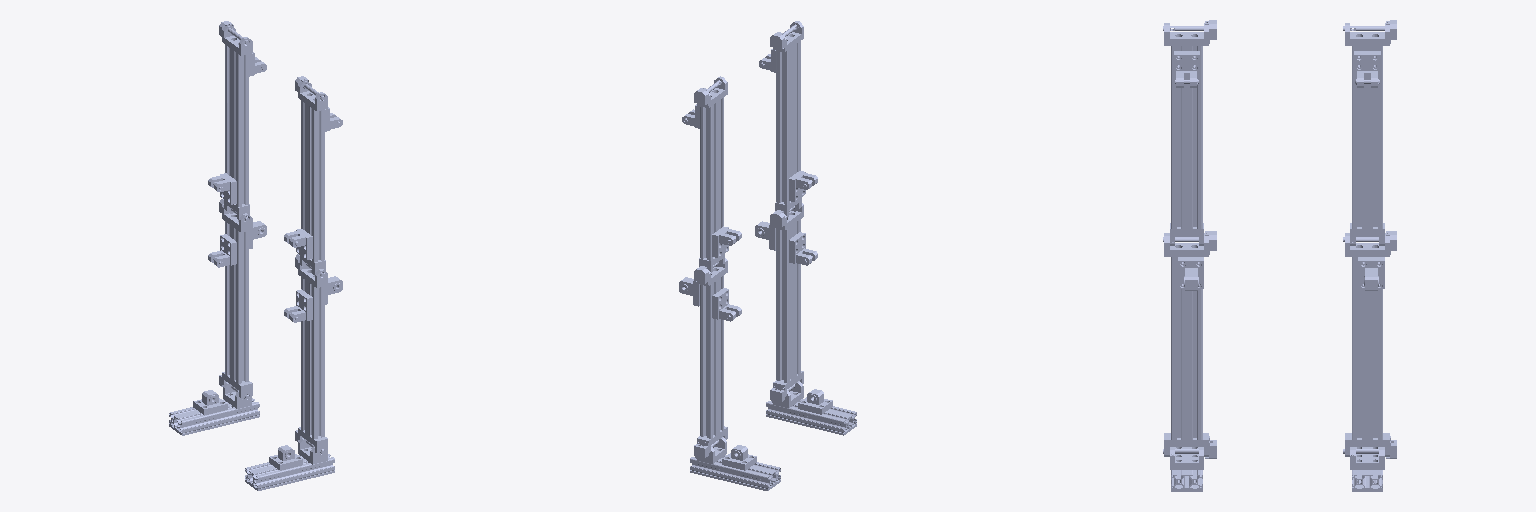
robot.urdf — urdf_trajectory:
<?xml version="1.0" encoding="utf-8"?>
<!-- This URDF was automatically created by SolidWorks to URDF Exporter! Originally created by [author] ([email redacted]) 
     Commit Version: 1.5.1-0-g916b5db  Build Version: 1.5.7152.31018
     For more information, please see http://wiki.ros.org/sw_urdf_exporter -->
<robot name="urdf_trajectory">



  <!--                                             Gazebo                                         -->
  <!-- ros_control plugin -->
  <!-- <gazebo>
    <plugin filename="libgazebo_ros_control.so" name="gazebo_ros_control">
      <robotNamespace>/</robotNamespace>
    </plugin>
  </gazebo> -->
  <!-- <gazebo>
    <plugin filename="libgazebo_ros_p3d.so" name="ground_truth">
      <frameName>map</frameName>
      <bodyName>base_link</bodyName>
      <topicName>/leg_chuanv3/odom</topicName>
      <updateRate>100.0</updateRate>
    </plugin>
  </gazebo> -->

  <!-- ros_control plugin -->
  <gazebo>
    <plugin name="gazebo_ros_control" filename="libgazebo_ros_control.so">
      <robotNamespace>/urdf_trajectory</robotNamespace>
      <robotSimType>gazebo_ros_control/DefaultRobotHWSim</robotSimType>
      <legacyModeNS>true</legacyModeNS>
    </plugin>
  </gazebo>
  <!-- World -->
  <!--<gazebo reference="world"></gazebo>-->
  <!-- Base -->
  <gazebo reference="world"/>
  <!-- IMU -->
  <!-- <gazebo reference="imu_link"/> -->
  <!-- Body-->
  <gazebo reference="base_link">
    <mu1>0.2</mu1>
    <mu2>0.2</mu2>
    <!-- <material>Gazebo/Red</material> -->
    <selfCollide>false</selfCollide>
  </gazebo>



  <gazebo reference="llink1">
    <mu1>0.2</mu1>
    <mu2>0.2</mu2>
    <!-- <material>Gazebo/Red</material> -->
    <selfCollide>true</selfCollide>
  </gazebo>

  <gazebo reference="llink2">
    <kp>100000.0</kp>
    <kd>100.0</kd>
    <mu1>1.5</mu1>
    <mu2>1.5</mu2>
    <fdir1>1 0 0</fdir1>
    <maxVel>1.0</maxVel>
    <minDepth>0.001</minDepth>
    <selfCollide>true</selfCollide>
  </gazebo>


  <gazebo reference="llink3">
    <mu1>0.2</mu1>
    <mu2>0.2</mu2>
    <!-- <material>Gazebo/Grey</material> -->
    <selfCollide>true</selfCollide>
  </gazebo>


  <gazebo reference="rlink1">
    <mu1>0.2</mu1>
    <mu2>0.2</mu2>
    <!-- <material>Gazebo/Grey</material> -->
    <selfCollide>true</selfCollide>
  </gazebo>


  <gazebo reference="rlink2">
    <kp>100000.0</kp>
    <kd>100.0</kd>
    <mu1>1.5</mu1>
    <mu2>1.5</mu2>
    <fdir1>1 0 0</fdir1>
    <maxVel>1.0</maxVel>
    <minDepth>0.0001</minDepth>
    <selfCollide>true</selfCollide>
  </gazebo>

  <gazebo reference="rlink3">
    <mu1>0.2</mu1>
    <mu2>0.2</mu2>
    <!-- <material>Gazebo/Grey</material> -->
    <selfCollide>true</selfCollide>
  </gazebo>







  <link name="world"></link>

  <joint name="joint_origin" type="fixed">
    <parent link="world"/>
    <child link="base_link"/>
    <origin xyz="0.0 0.0 0" rpy="0.0 0.0 0"/>
  </joint>



  <link name="base_link">
    <inertial>
      <origin xyz="-0.0014321 0.00041851 0.040306" rpy="0 0 0" />
      <mass value="2.4018" />
      <inertia ixx="0.009591" ixy="1.9337E-07" ixz="-1.2072E-07" iyy="0.0070769" iyz="-2.7325E-07" izz="0.015485" />
    </inertial>
    <visual>
      <origin xyz="0 0 0" rpy="0 0 0" />
      <geometry>
        <mesh filename="package://leg_description/meshes/base_link.STL" scale="1 1 1" />
      </geometry>
      <material name="">
        <color rgba="0.79216 0.81961 0.93333 1" />
      </material>
    </visual>
    <collision>
      <origin xyz="0 0 0" rpy="0 0 0" />
      <geometry>
        <mesh filename="package://leg_description/meshes/base_link.STL" scale="1 1 1" />
      </geometry>
    </collision>
  </link>


  <link name="llink1">
    <inertial>
      <origin xyz="0.21548 -0.0030993 0.0013257" rpy="0 0 0" />
      <mass value="0.43137" />
      <inertia ixx="0.00020436" ixy="-9.8E-06" ixz="1.5473E-07" iyy="0.0027266" iyz="5.4625E-08" izz="0.0026126" />
    </inertial>
    <visual>
      <origin xyz="0 0 0" rpy="0 0 0" />
      <geometry>
        <mesh filename="package://leg_description/meshes/llink1.STL" scale="1 1 1" />
      </geometry>
      <material name="">
        <color rgba="0.79216 0.81961 0.93333 1" />
      </material>
    </visual>
    <collision>
      <origin xyz="0 0 0" rpy="0 0 0" />
      <geometry>
        <mesh filename="package://leg_description/meshes/llink1.STL" scale="1 1 1" />
      </geometry>
    </collision>
  </link>


  <joint name="ljoint1" type="revolute">
    <origin xyz="-0.0436 -0.17124 -0.06" rpy="1.5708 1.5708 0" />
    <parent link="base_link" />
    <child link="llink1" />
    <axis xyz="0 0 1" />
    <limit lower="-3.142" upper="3.142" effort="100" velocity="3" />
    <dynamics damping="0.1" friction="0.0"/>
  </joint>
  <transmission name="tran1">
    <type>transmission_interface/SimpleTransmission</type>
    <joint name="ljoint1">
      <hardwareInterface>hardware_interface/PositionJointInterface</hardwareInterface>
    </joint>
    <actuator name="motor1">
      <hardwareInterface>hardware_interface/PositionJointInterface</hardwareInterface>
      <mechanicalReduction>1</mechanicalReduction>
    </actuator>
  </transmission>



  <link name="llink2">
    <inertial>
      <origin xyz="0.17796 0.0015786 -0.047904" rpy="0 0 0" />
      <mass value="0.45541" />
      <inertia ixx="0.00023283" ixy="4.9149E-06" ixz="7.2132E-18" iyy="0.0027437" iyz="1.4004E-17" izz="0.002625" />
    </inertial>
    <visual>
      <origin xyz="0 0 0" rpy="0 0 0" />
      <geometry>
        <mesh filename="package://leg_description/meshes/llink2.STL" scale="1 1 1" />
      </geometry>
      <material name="">
        <color rgba="0.79216 0.81961 0.93333 1" />
      </material>
    </visual>
    <collision>
      <origin xyz="0 0 0" rpy="0 0 0" />
      <geometry>
        <mesh filename="package://leg_description/meshes/llink2.STL" scale="1 1 1" />
      </geometry>
    </collision>
  </link>


  <joint name="ljoint2" type="revolute">
    <origin xyz="0.438 -0.0031004 0.047592" rpy="0 0 0" />
    <parent link="llink1" />
    <child link="llink2" />
    <axis xyz="0 0 1" />
    <limit lower="-3.142" upper="3.142" effort="100" velocity="3" />
    <dynamics damping="0.1" friction="0.0"/>
  </joint>
  <transmission name="ljoint2_tran">
    <type>transmission_interface/SimpleTransmission</type>
    <joint name="ljoint2">
      <hardwareInterface>hardware_interface/PositionJointInterface</hardwareInterface>
    </joint>
    <actuator name="ljoint2_motor">
      <hardwareInterface>hardware_interface/PositionJointInterface</hardwareInterface>
      <mechanicalReduction>1</mechanicalReduction>
    </actuator>
  </transmission>


  <link name="llink3">
    <inertial>
      <origin xyz="0.036675 -0.049331 -0.045802" rpy="0 0 0" />
      <mass value="0.29119" />
      <inertia ixx="0.00068435" ixy="-6.0358E-08" ixz="-1.3663E-07" iyy="0.00011606" iyz="9.6683E-08" izz="0.00061049" />
    </inertial>
    <visual>
      <origin xyz="0 0 0" rpy="0 0 0" />
      <geometry>
        <mesh filename="package://leg_description/meshes/llink3.STL" />
      </geometry>
      <material name="">
        <color rgba="0.79216 0.81961 0.93333 1" />
      </material>
    </visual>
    <collision>
      <origin xyz="0 0 0" rpy="0 0 0" />
      <geometry>
        <mesh filename="package://leg_description/meshes/llink3.STL" />
      </geometry>
    </collision>
  </link>


  <joint name="ljoint3" type="revolute">
    <origin xyz="0.44 0 0" rpy="0 0 0" />
    <parent link="llink2" />
    <child link="llink3" />
    <axis xyz="0 0 1" />
    <limit lower="-3.142" upper="3.142" effort="100" velocity="3" />
    <dynamics damping="0.1" friction="0.0"/>
  </joint>
  <transmission name="ljoint3_tran">
    <type>transmission_interface/SimpleTransmission</type>
    <joint name="ljoint3">
      <hardwareInterface>hardware_interface/PositionJointInterface</hardwareInterface>
    </joint>
    <actuator name="ljoint3_motor">
      <hardwareInterface>hardware_interface/PositionJointInterface</hardwareInterface>
      <mechanicalReduction>1</mechanicalReduction>
    </actuator>
  </transmission>

  <link name="left_qd"/> 
  <joint name="joint_ltool0" type="fixed">
    <origin xyz="0 0 0" rpy="0 0 0" />
    <parent link="llink3" />
    <child link="left_qd">
    </child>
  </joint>
  
  

  <link name="rlink1">
    <inertial>
      <origin xyz="0.21548 -0.0030993 0.0013257" rpy="0 0 0" />
      <mass value="0.43137" />
      <inertia ixx="0.00020436" ixy="-9.8E-06" ixz="1.5473E-07" iyy="0.0027266" iyz="5.4625E-08" izz="0.0026126" />
    </inertial>
    <visual>
      <origin xyz="0 0 0" rpy="0 0 0" />
      <geometry>
        <mesh filename="package://leg_description/meshes/rlink1.STL" scale="1 1 1" />
      </geometry>
      <material name="">
        <color rgba="0.79216 0.81961 0.93333 1" />
      </material>
    </visual>
    <collision>
      <origin xyz="0 0 0" rpy="0 0 0" />
      <geometry>
        <mesh filename="package://leg_description/meshes/rlink1.STL" scale="1 1 1" />
      </geometry>
    </collision>
  </link>


  <joint name="rjoint1" type="revolute">
    <origin xyz="-0.0436 0.16876 -0.06" rpy="1.5708 1.5708 0" />
    <parent link="base_link" />
    <child link="rlink1" />
    <axis xyz="0 0 1" />
    <limit lower="-3.142" upper="3.142" effort="100" velocity="3" />
    <dynamics damping="0.1" friction="0.0"/>
  </joint>
  <transmission name="rjoint1_tran">
    <type>transmission_interface/SimpleTransmission</type>
    <joint name="rjoint1">
      <hardwareInterface>hardware_interface/PositionJointInterface</hardwareInterface>
    </joint>
    <actuator name="rjoint1_motor">
      <hardwareInterface>hardware_interface/PositionJointInterface</hardwareInterface>
      <mechanicalReduction>1</mechanicalReduction>
    </actuator>
  </transmission>

  <link name="rlink2">
    <inertial>
      <origin xyz="0.17796 0.0015786 -0.047904" rpy="0 0 0" />
      <mass value="0.45541" />
      <inertia ixx="0.00023283" ixy="4.9149E-06" ixz="5.9225E-18" iyy="0.0027437" iyz="1.486E-17" izz="0.002625" />
    </inertial>
    <visual>
      <origin xyz="0 0 0" rpy="0 0 0" />
      <geometry>
        <mesh filename="package://leg_description/meshes/rlink2.STL" scale="1 1 1" />
      </geometry>
      <material name="">
        <color rgba="0.79216 0.81961 0.93333 1" />
      </material>
    </visual>
    <collision>
      <origin xyz="0 0 0" rpy="0 0 0" />
      <geometry>
        <mesh filename="package://leg_description/meshes/rlink2.STL" scale="1 1 1" />
      </geometry>
    </collision>
  </link>

  <joint name="rjoint2" type="revolute">
    <origin xyz="0.438 -0.0031004 0.047592" rpy="0 0 0" />
    <parent link="rlink1" />
    <child link="rlink2" />
    <axis xyz="0 0 1" />
    <limit lower="-3.142" upper="3.142" effort="100" velocity="3" />
    <dynamics damping="0.1" friction="0.0"/>
  </joint>
  <transmission name="rjoint2_tran">
    <type>transmission_interface/SimpleTransmission</type>
    <joint name="rjoint2">
      <hardwareInterface>hardware_interface/PositionJointInterface</hardwareInterface>
    </joint>
    <actuator name="rjoint2_motor">
      <hardwareInterface>hardware_interface/PositionJointInterface</hardwareInterface>
      <mechanicalReduction>1</mechanicalReduction>
    </actuator>
  </transmission>


  <link name="rlink3">
    <inertial>
      <origin xyz="0.036675 -0.049331 -0.045802" rpy="0 0 0" />
      <mass value="0.29119" />
      <inertia ixx="0.00068435" ixy="-6.0358E-08" ixz="-1.3663E-07" iyy="0.00011606" iyz="9.6683E-08" izz="0.00061049" />
    </inertial>
    <visual>
      <origin xyz="0 0 0" rpy="0 0 0" />
      <geometry>
        <mesh filename="package://leg_description/meshes/rlink3.STL" scale="1 1 1" />
      </geometry>
      <material name="">
        <color rgba="0.79216 0.81961 0.93333 1" />
      </material>
    </visual>
    <collision>
      <origin xyz="0 0 0" rpy="0 0 0" />
      <geometry>
        <mesh filename="package://leg_description/meshes/rlink3.STL" scale="1 1 1" />
      </geometry>
    </collision>
  </link>


  <joint name="rjoint3" type="revolute">
    <origin xyz="0.44 0 0" rpy="0 0 0" />
    <parent link="rlink2" />
    <child link="rlink3" />
    <axis xyz="0 0 1" />
    <limit lower="-3.142" upper="3.142" effort="100" velocity="3" />
    <dynamics damping="0.1" friction="0.0"/>
  </joint>
  <transmission name="rjoint3_tran">
    <type>transmission_interface/SimpleTransmission</type>
    <joint name="rjoint3">
      <hardwareInterface>hardware_interface/PositionJointInterface</hardwareInterface>
    </joint>
    <actuator name="rjoint3_motor">
      <hardwareInterface>hardware_interface/PositionJointInterface</hardwareInterface>
      <mechanicalReduction>1</mechanicalReduction>
    </actuator>
  </transmission>

  <link name="right_qd"/>
  <joint name="joint_rtool0" type="fixed">
    <origin xyz="0 0 0" rpy="0 0 0" />
    <parent link="rlink3" />
    <child link="right_qd">
    </child>
  </joint>
  
</robot>

--- Render facts (derived) ---
3 views of the same robot in one strip: view 1: azimuth 30°, elevation 25°; view 2: azimuth 150°, elevation 25°; view 3: azimuth 270°, elevation 25° (orthographic).
Robot: urdf_trajectory — 10 links, 9 joints (6 revolute, 3 fixed); root link world; default pose: every joint at zero.
Links seen in each view (by area): view 1: rlink2, rlink1, llink1, llink2, llink3, rlink3; view 2: llink2, rlink2, llink1, rlink1, llink3, rlink3; view 3: llink2, llink1, rlink2, rlink1, rlink3, llink3.
Link boxes in pixels (<box>): rlink2: <box>208,199,266,400</box>; rlink1: <box>208,21,266,221</box>; llink1: <box>284,76,342,276</box>; llink2: <box>284,254,342,456</box>; llink3: <box>245,438,334,490</box>; rlink3: <box>169,382,259,435</box>; llink2: <box>755,203,817,403</box>; rlink2: <box>679,258,741,459</box>; llink1: <box>759,21,817,217</box>; rlink1: <box>682,76,741,272</box>; llink3: <box>766,381,856,435</box>; rlink3: <box>690,437,780,490</box>; llink2: <box>1163,231,1216,458</box>; llink1: <box>1163,20,1216,245</box>; rlink2: <box>1343,231,1396,458</box>; rlink1: <box>1343,20,1396,245</box>; rlink3: <box>1350,447,1384,491</box>; llink3: <box>1170,447,1203,491</box>.
Bounding box of the posed robot: 0.235 × 0.4424 × 0.956 m (x, y, z).
Meshes: 7 distinct files referenced, 6 mesh visuals loaded (6 binary STL); not drawn: 1 (reference not matched to a file when rendering).
